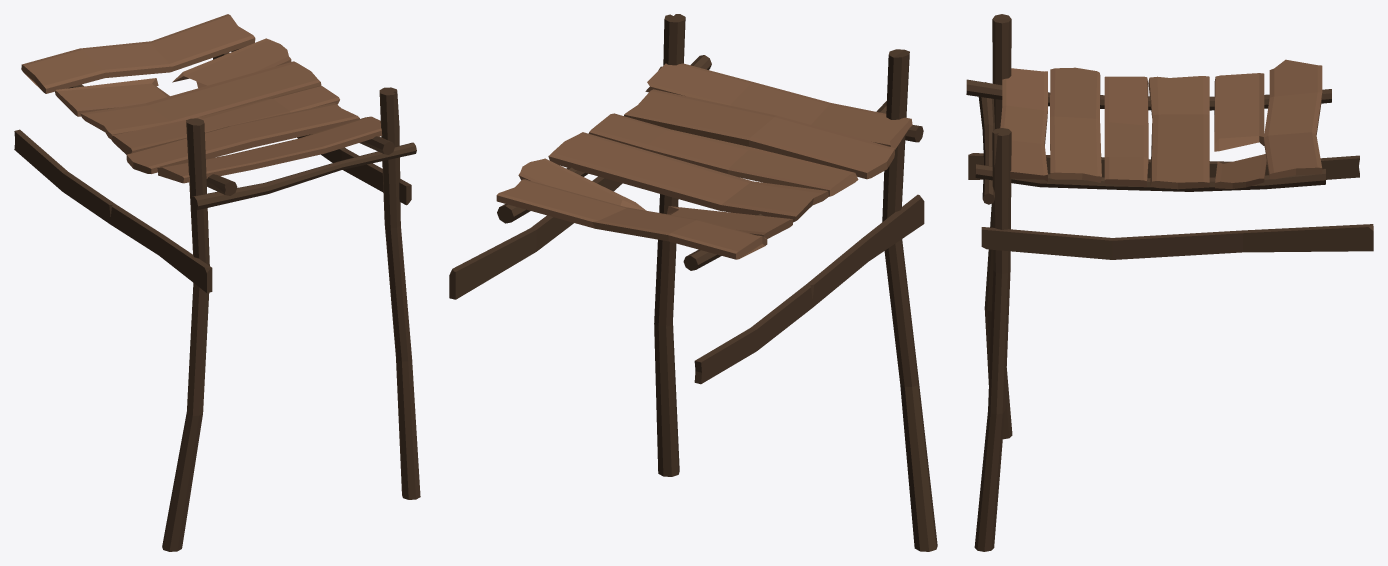
File: Wooden_bridge_3.fbx
The picture shows the model from 3 angles, left to right: view 1: azimuth 30°, elevation 25°; view 2: azimuth 150°, elevation 25°; view 3: azimuth 270°, elevation 25°; orthographic projection. The views are drawn at different scales.
Parts seen in each view (by area): view 1: Wooden_bridge_3; view 2: Wooden_bridge_3; view 3: Wooden_bridge_3.
Boxes of the visible parts, x1,y1,x2,y2 form: Wooden_bridge_3: [14, 14, 420, 551]; Wooden_bridge_3: [449, 14, 937, 551]; Wooden_bridge_3: [966, 14, 1373, 551].
Bounding box in the file's own units: 97.86 × 159 × 137.
